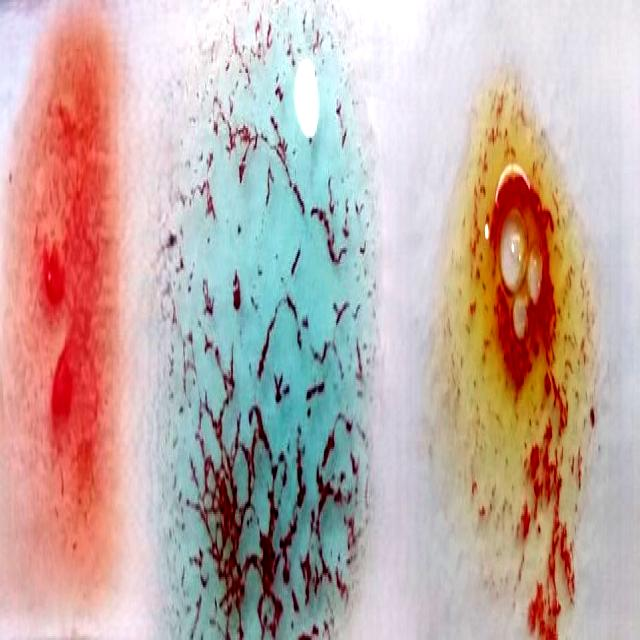A: (168, 10, 366, 640)
B: (451, 65, 599, 640)
D: (3, 40, 112, 599)
